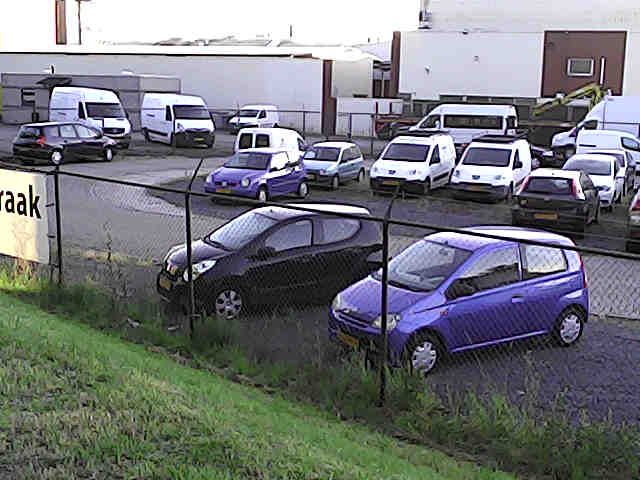suv: (387, 227, 588, 373), (192, 203, 380, 318), (204, 148, 308, 201), (512, 169, 599, 231), (12, 122, 115, 164), (562, 154, 623, 210), (303, 142, 365, 189), (589, 149, 634, 196), (234, 128, 306, 157), (228, 105, 278, 132), (626, 190, 639, 252)
whitevan: (408, 104, 517, 155), (450, 135, 531, 200), (370, 132, 455, 193), (49, 86, 131, 148), (141, 93, 214, 147), (576, 129, 639, 184)
